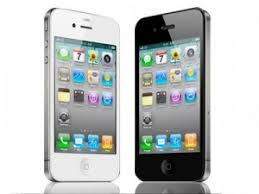iphone: (130, 4, 212, 182), (41, 1, 122, 180)
iphone4: (130, 5, 212, 183), (42, 2, 123, 181)
